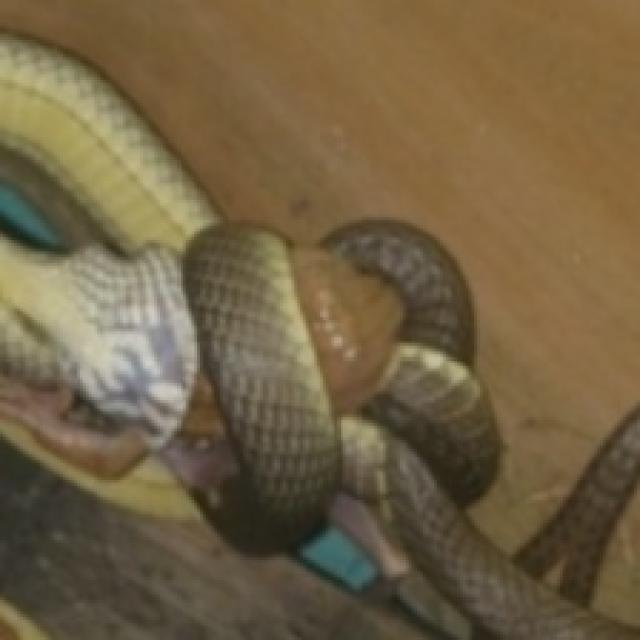paradise tree snake: (0, 31, 637, 637)
